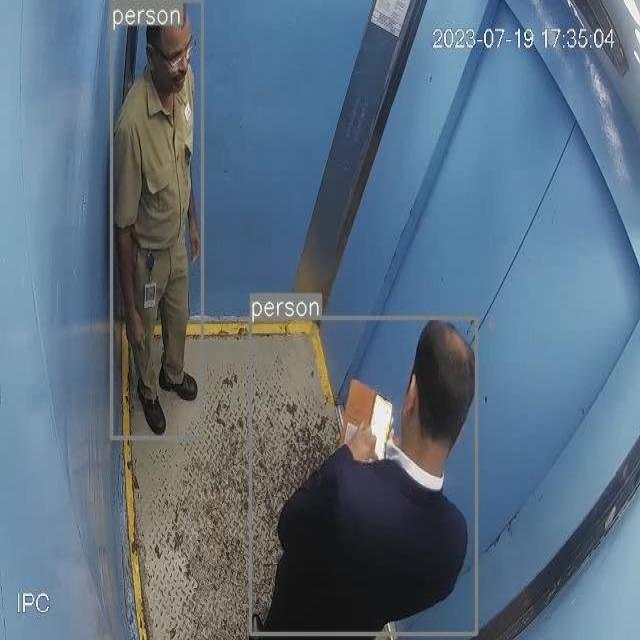person: (250, 319, 475, 637), (111, 4, 201, 437)
